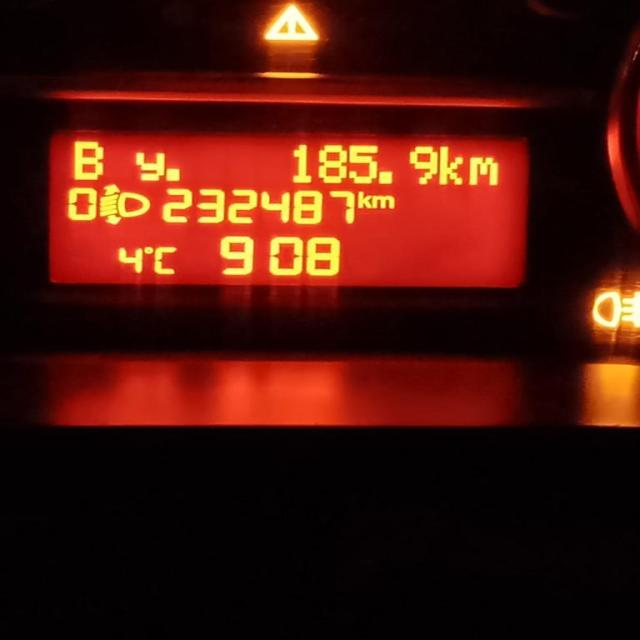odometer: (43, 119, 535, 290)
